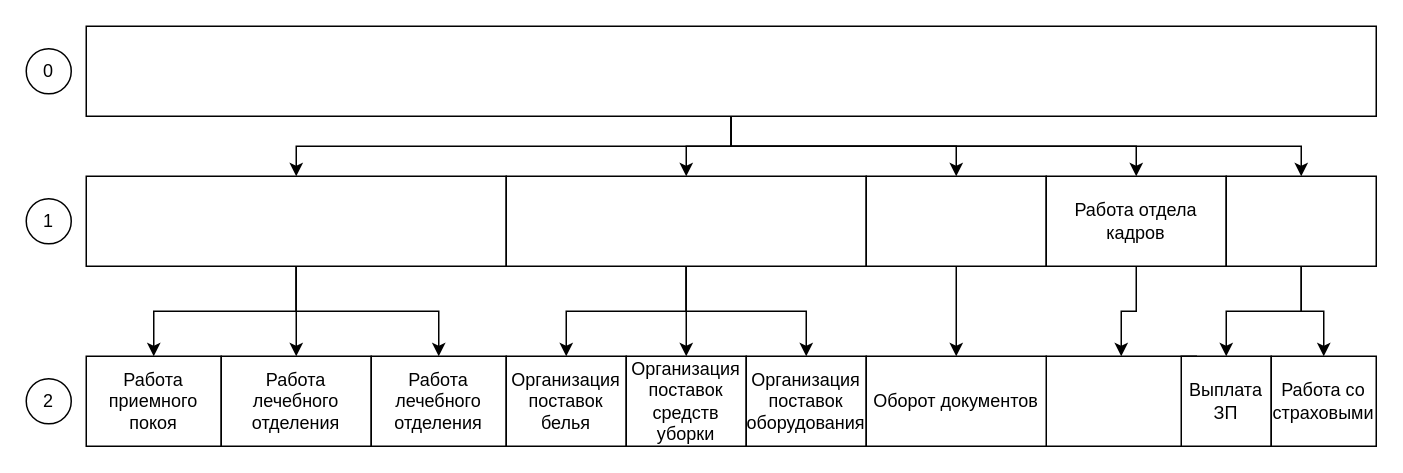
The diagram is 1403 pixels wide and 473 high, and some of its shapes have lost their labels. Each missing label, with the box of its shape:
Организация стационарной медицинской помощи: (85, 25, 1376, 116)
Работа административного отдела: (865, 175, 1046, 266)
Работа бухгалтерии: (1225, 175, 1376, 266)
Работа медицинских подразделений: (85, 175, 506, 266)
Работа хозяйственного отдела: (505, 175, 866, 266)
Составление графиков: (1045, 355, 1196, 446)
